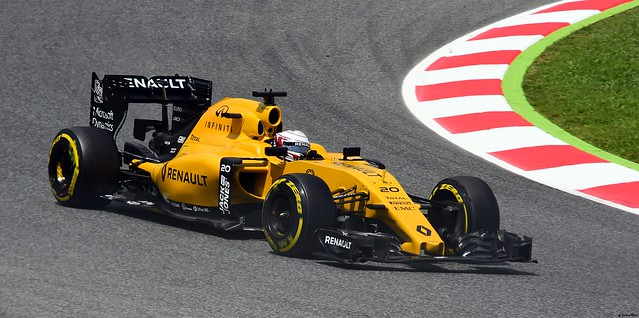F1 Car: (45, 68, 543, 268)
